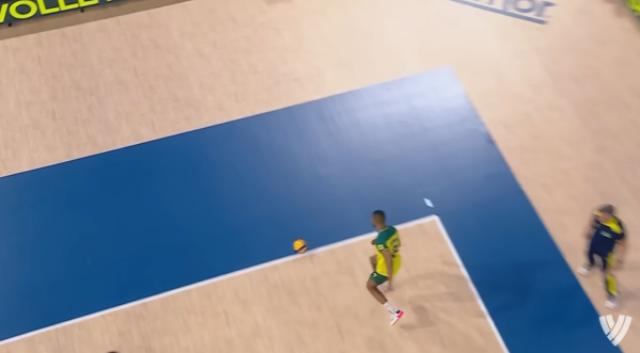bola: (288, 233, 310, 261)
